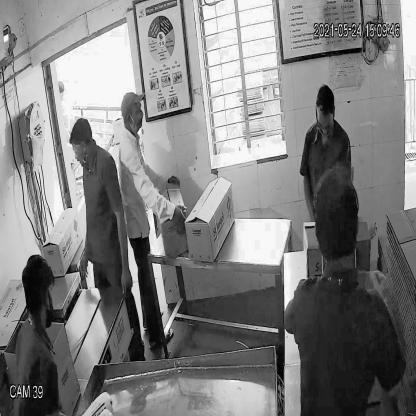no_goggles: (120, 99, 144, 118)
